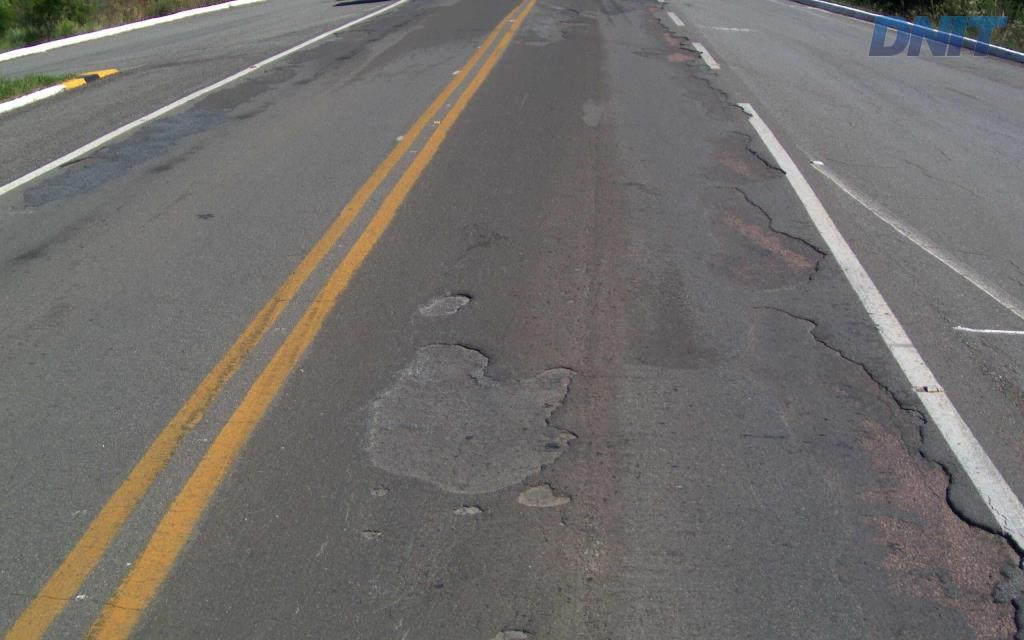pothole: (733, 303, 1022, 604), (356, 338, 589, 517), (697, 128, 834, 300), (637, 15, 755, 125), (407, 288, 477, 320), (484, 622, 538, 638), (442, 502, 490, 520), (355, 525, 386, 547), (362, 486, 390, 504)
